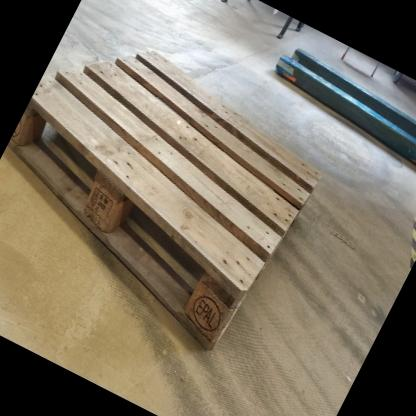BoxFace: (5, 46, 328, 359)
